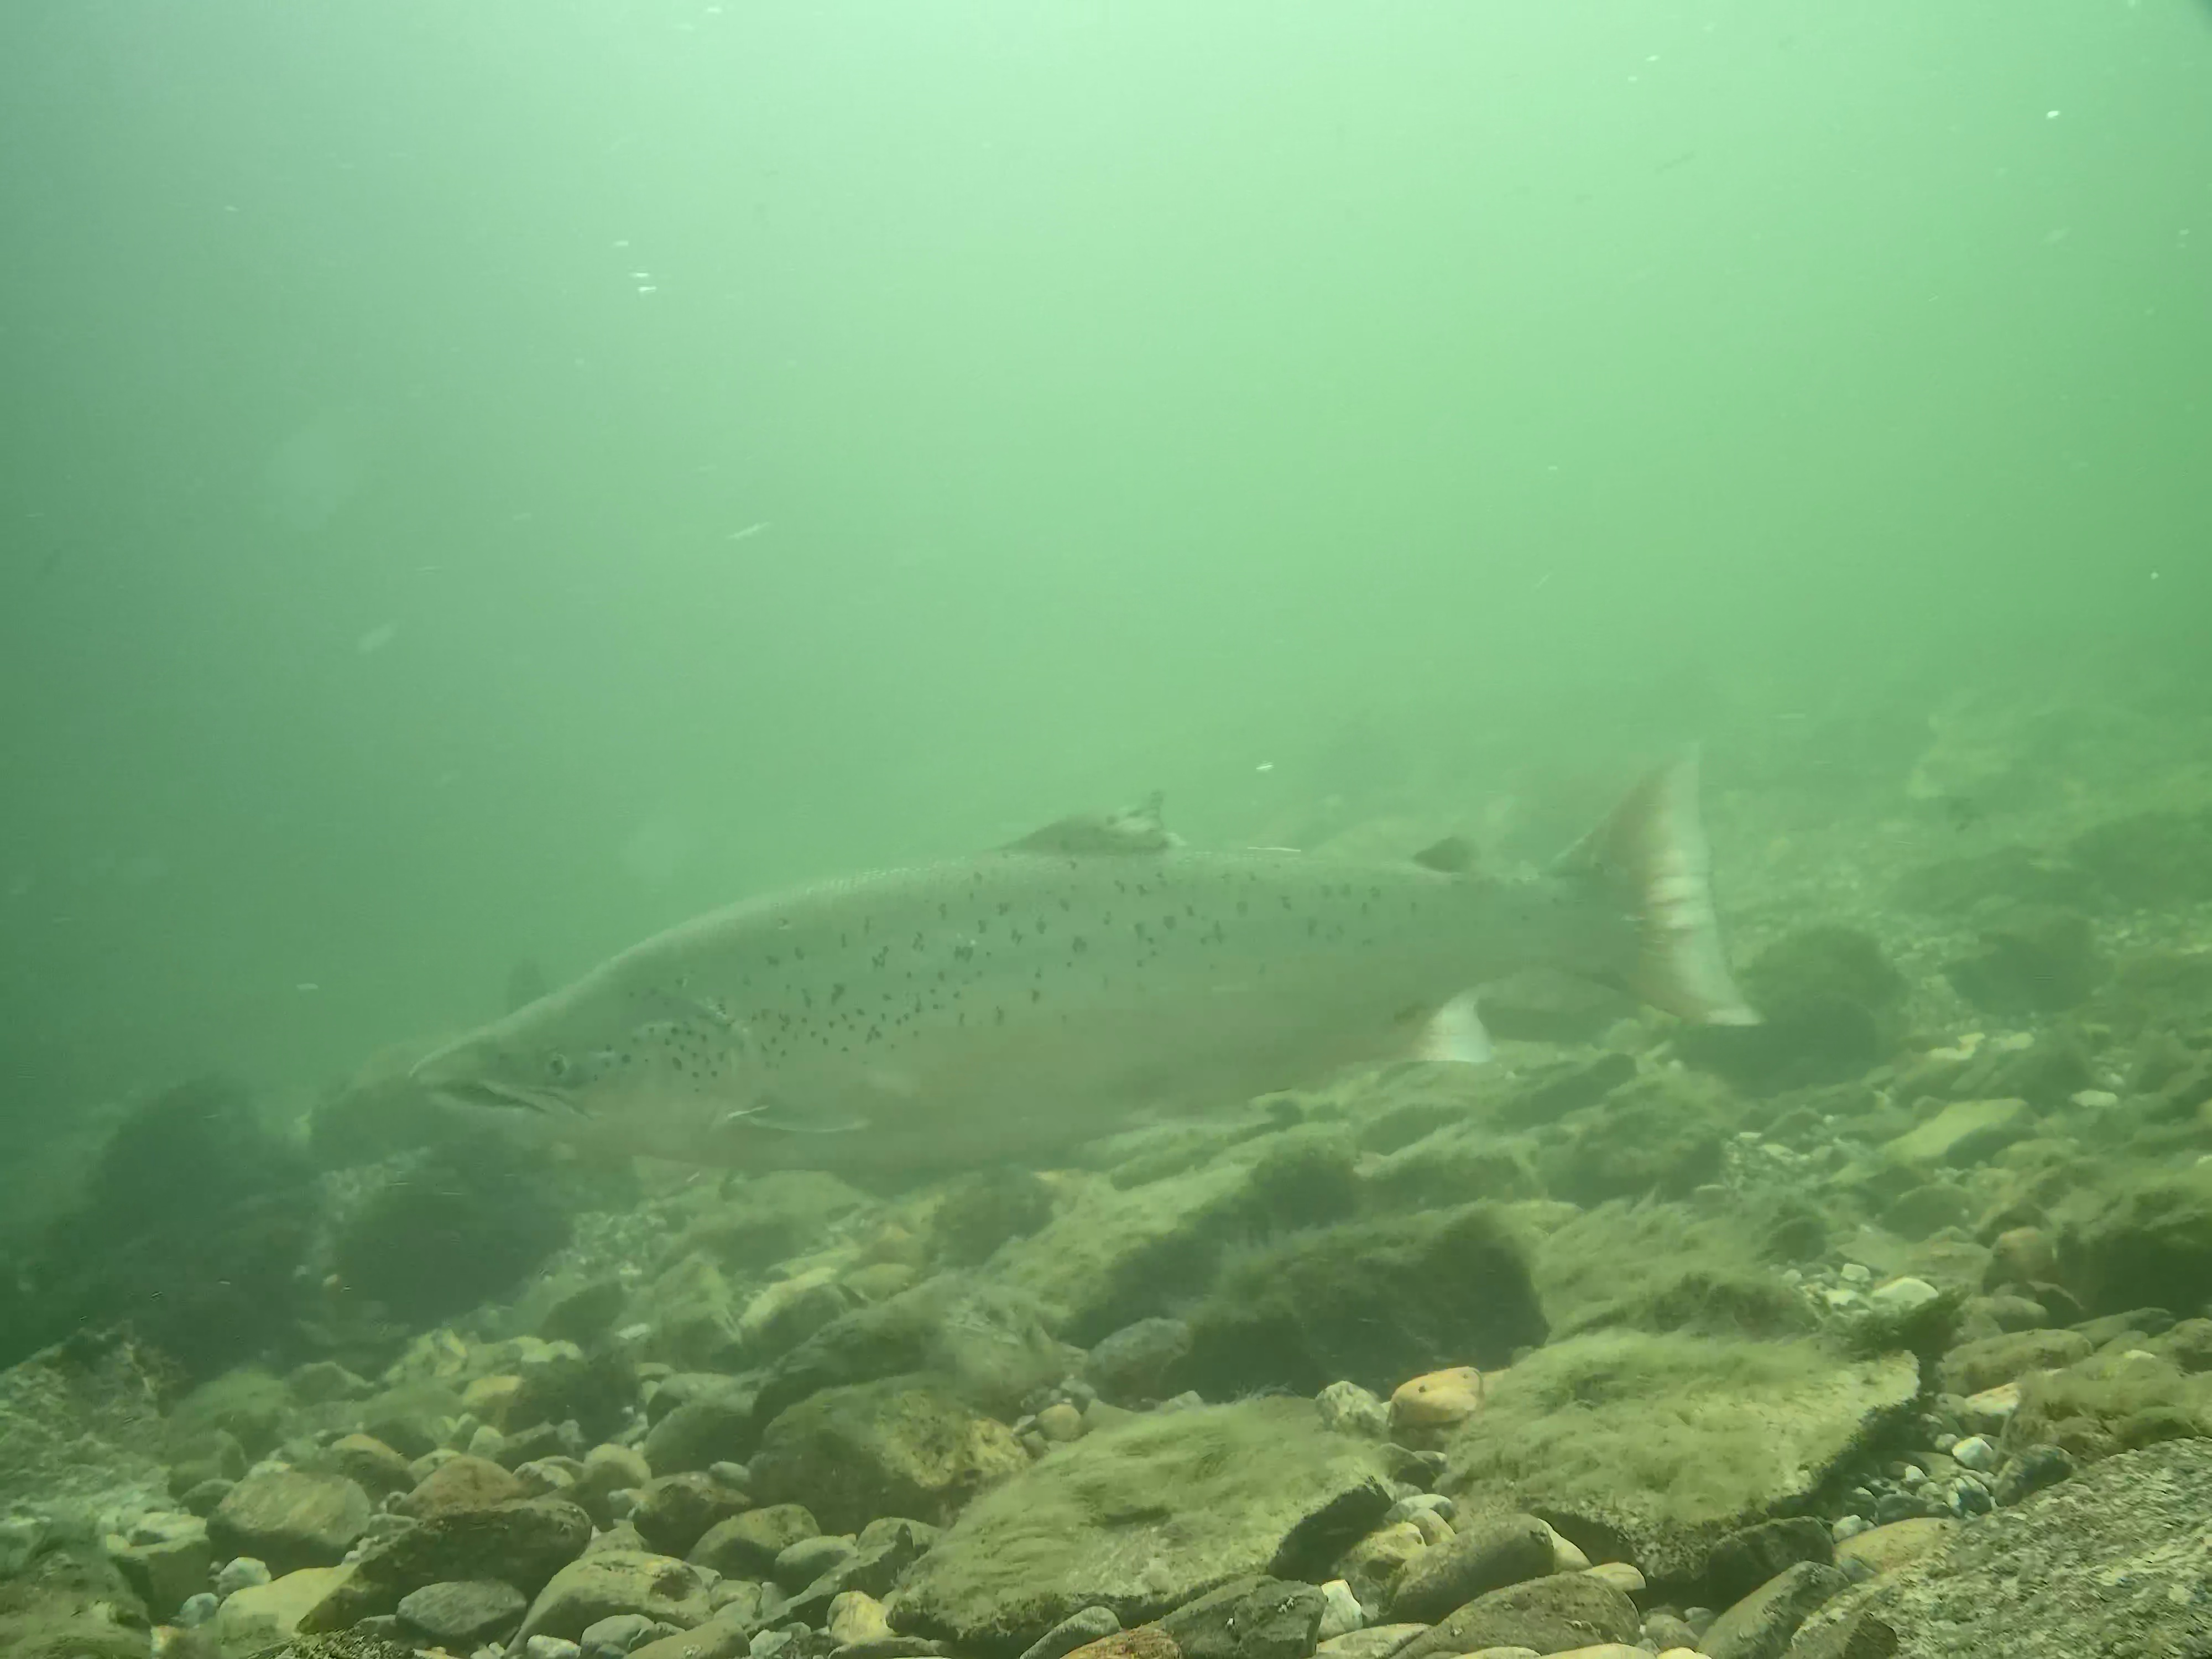salmon: (402, 739, 1766, 1176)
